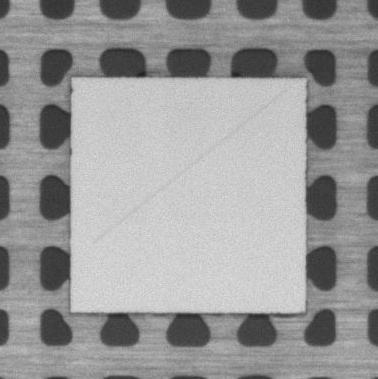DIE_CRACK: (93, 90, 285, 244)
